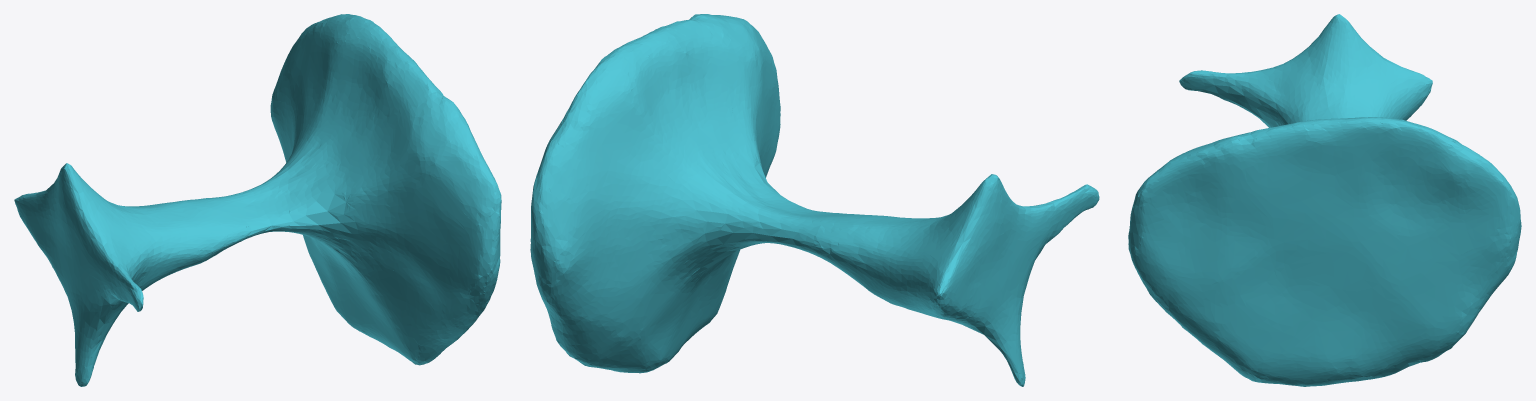
3 renders of one model, left to right at view 1: azimuth 30°, elevation 25°; view 2: azimuth 150°, elevation 25°; view 3: azimuth 270°, elevation 25°, orthographic. The views are drawn at different scales.
Visible parts, largest first — view 1: Renderer Node; view 2: Renderer Node; view 3: Renderer Node.
Boxes of the visible parts, bbox=[...] form: Renderer Node: bbox=[14, 14, 501, 386]; Renderer Node: bbox=[530, 14, 1099, 386]; Renderer Node: bbox=[1128, 14, 1521, 386].
Bounding box in the file's own units: 0.5683 × 0.4556 × 0.597.
1 material, 1 textured.
